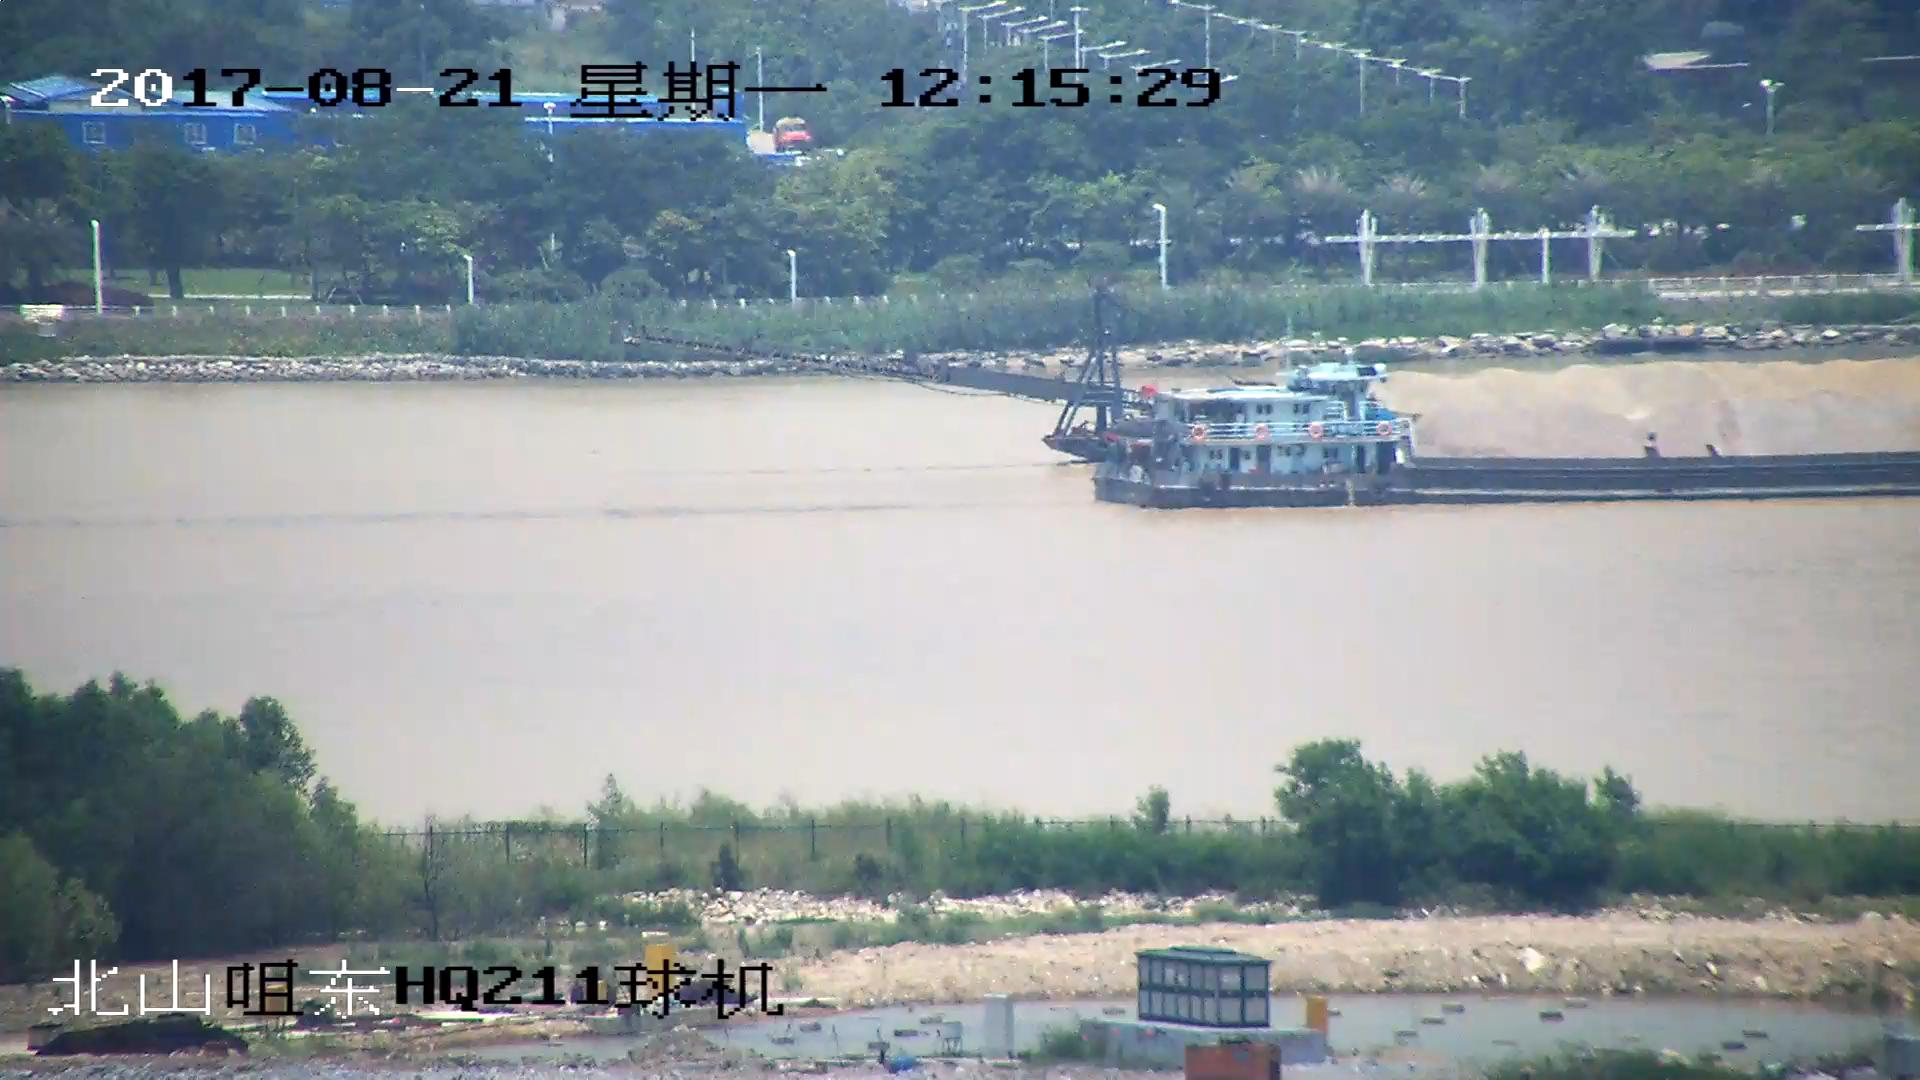ore carrier: (620, 296, 1920, 469), (1105, 377, 1920, 500)
